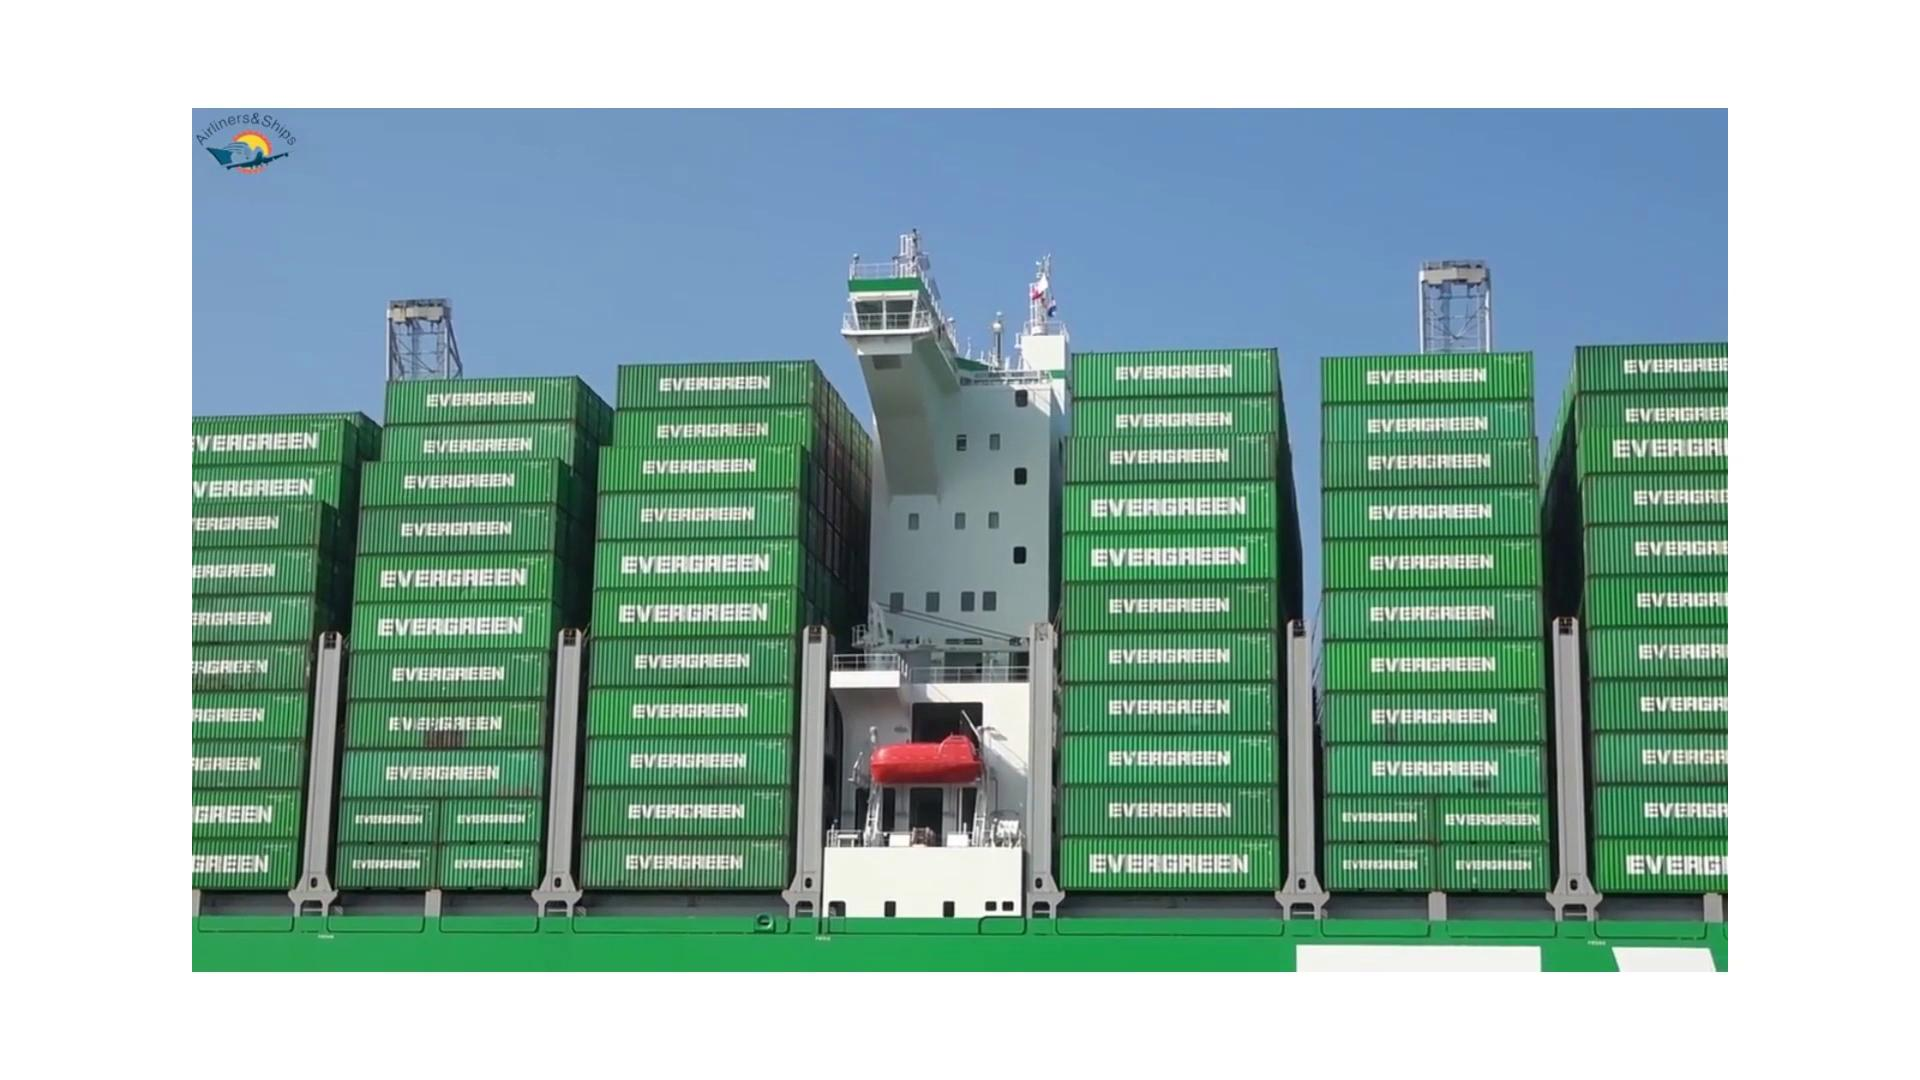OCR: (1064, 491, 1266, 527)
